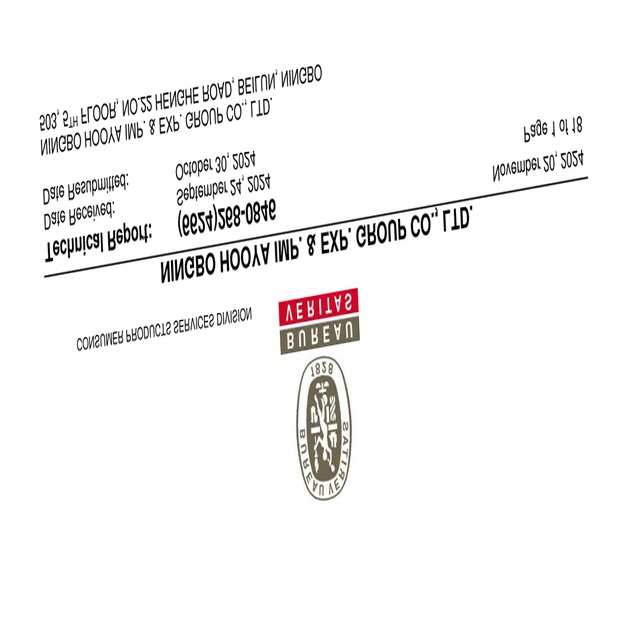bureau_veritas: (279, 288, 361, 501)
